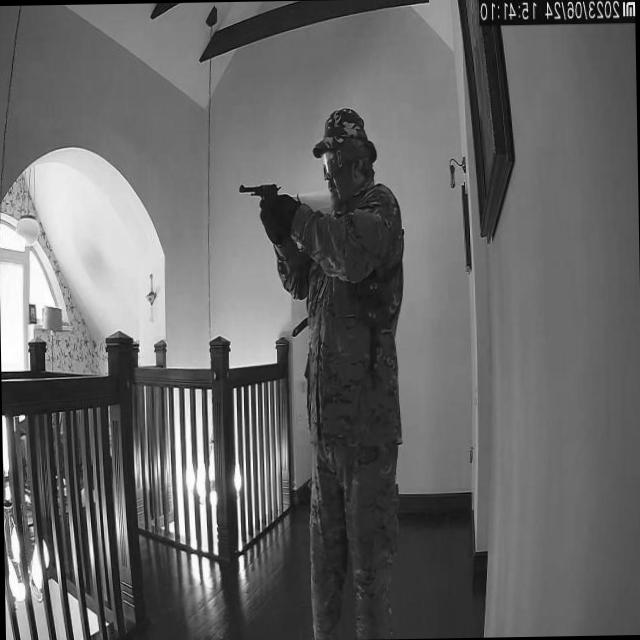gun: (237, 180, 280, 208)
person with a gun: (234, 104, 411, 640)
